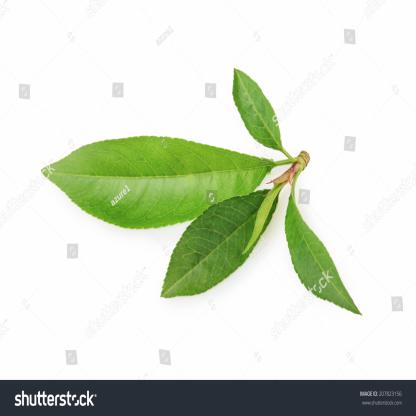peach leaf: (27, 132, 274, 237), (157, 182, 282, 302), (283, 185, 364, 318), (229, 57, 284, 153)
